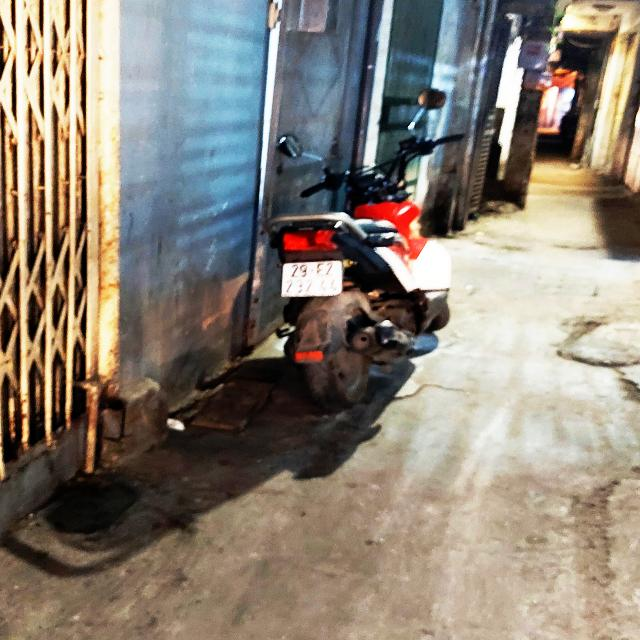license_plate: (280, 259, 346, 298)
